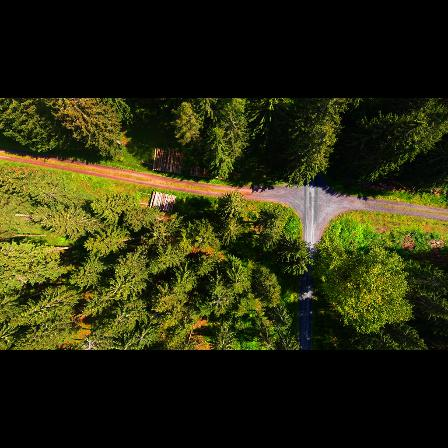Sick: (203, 290, 232, 314)
